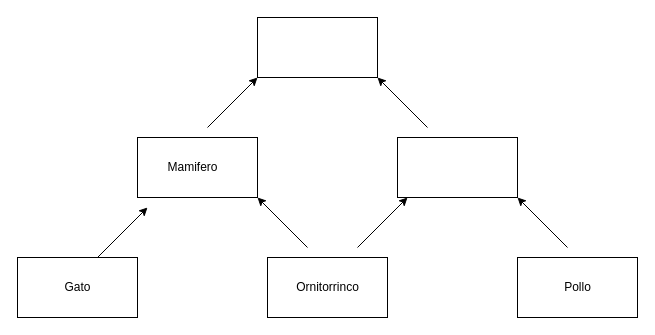
Some shapes in this 655 by 335 pixel diagram are drawn without their labels. The shapes that lost their labels are listed below. From the top down, each one's centre as x and y in pixels, then its label:
pixel 317 47: Animales
pixel 457 167: Oviparo
